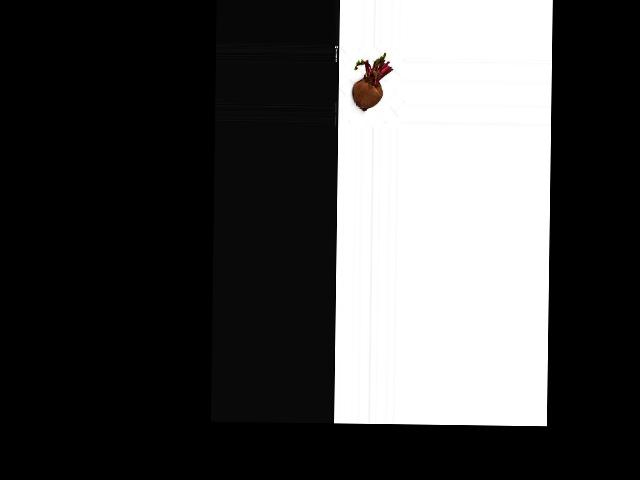beet: (351, 52, 393, 111)
